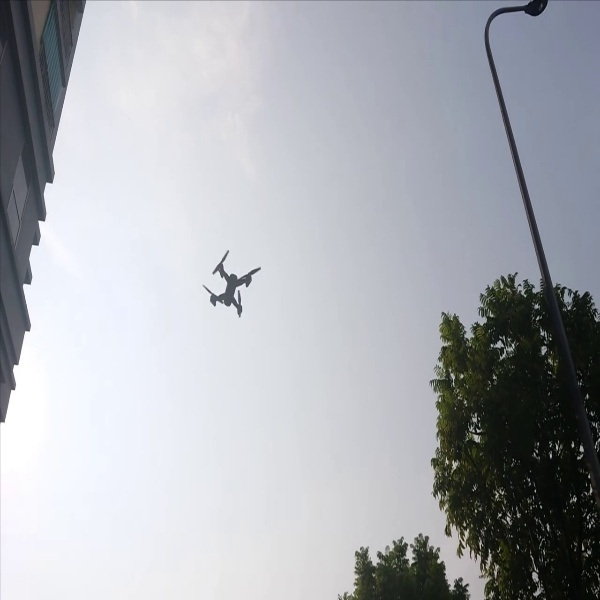drone: (198, 249, 262, 321)
